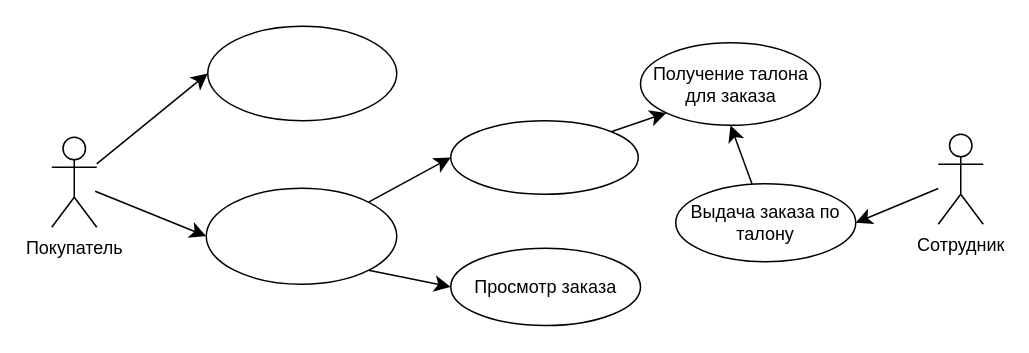
Image size: 1029x353. Some labels were removed from this diagram. The box of each missing label's shape, as (x1, y1, x2, y2) in pixels:
Авторизуется: (205, 187, 397, 284)
Просматривает ассортимент товара "ЖизньФарм": (206, 25, 397, 121)
Формирование заказа: (449, 119, 638, 194)
